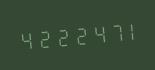four: (17, 25, 33, 53), (85, 19, 101, 47)
one: (119, 16, 135, 44)
seven: (102, 17, 118, 46)
two: (34, 23, 50, 52), (68, 20, 84, 49), (51, 22, 67, 50)
